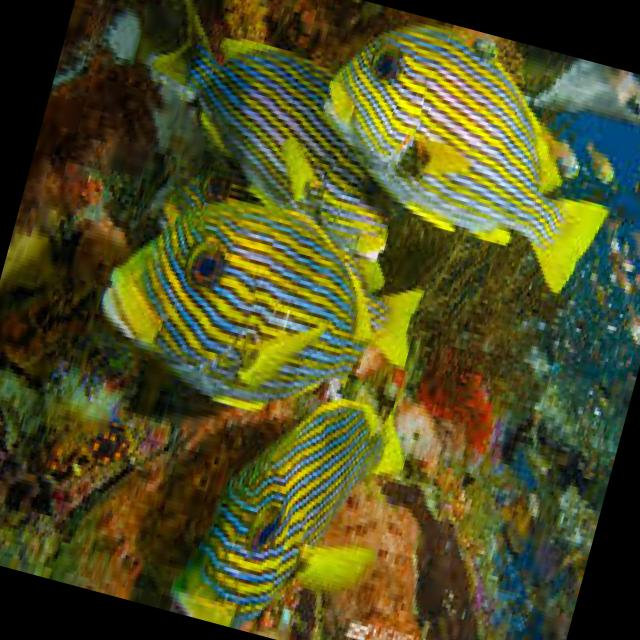RibbonedSweetlips: (288, 1, 640, 304), (82, 165, 440, 449), (115, 0, 440, 264), (162, 366, 417, 640)
